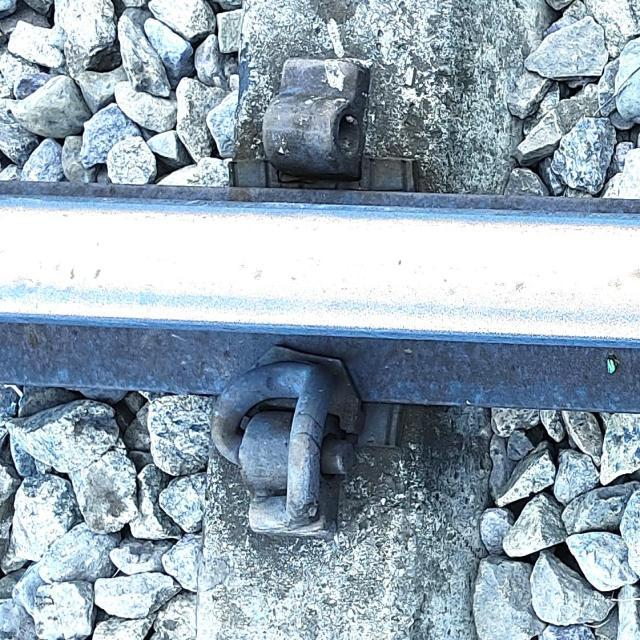Good Fasteners: (195, 365, 386, 563)
Missing Fastener: (245, 36, 384, 196)
